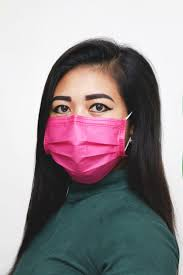with-mask: (43, 51, 133, 182)
